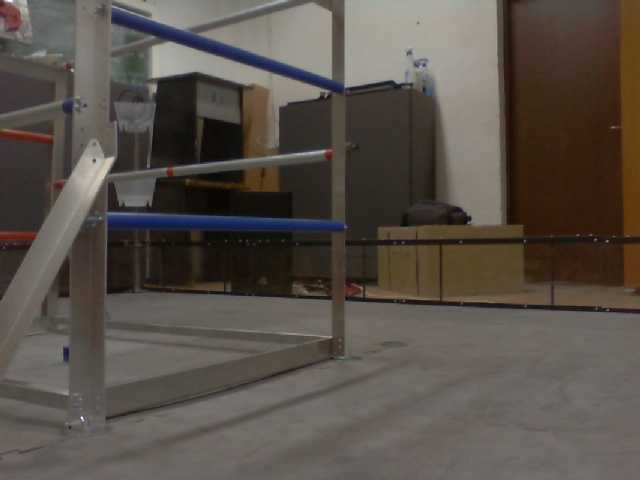BlueSample: (60, 341, 72, 367)
